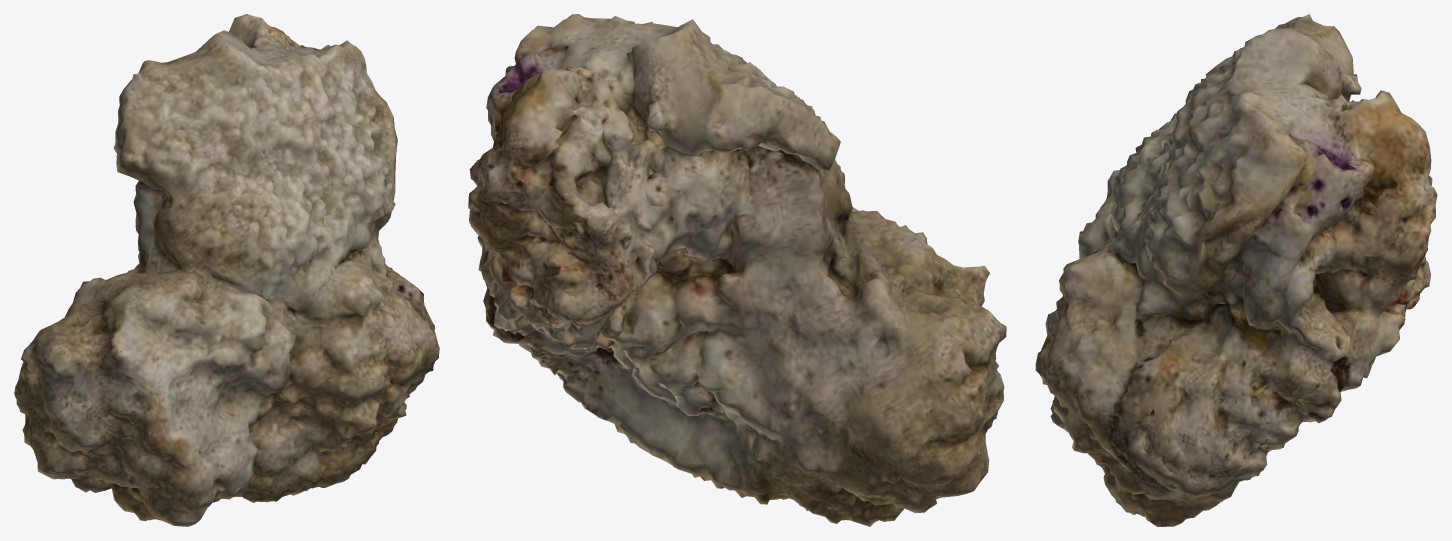
File: montipora.glb
The picture shows the model from 3 angles, left to right: view 1: azimuth 30°, elevation 25°; view 2: azimuth 150°, elevation 25°; view 3: azimuth 270°, elevation 25°; orthographic projection. The views are drawn at different scales.
Visible parts, largest first — view 1: mesh_0; view 2: mesh_0; view 3: mesh_0.
Part boxes in pixels (box(x1,y1,x2,y2)): mesh_0: box(14, 14, 439, 526); mesh_0: box(468, 14, 1006, 526); mesh_0: box(1035, 14, 1437, 526).
Bounding box in the file's own units: 0.1079 × 0.1088 × 0.0843.
Materials: 1 (1 with a texture image).
